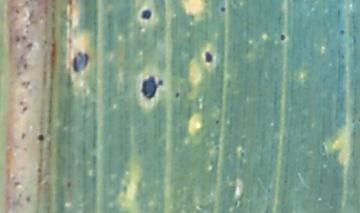tarspot: (73, 51, 89, 73), (142, 76, 157, 99), (204, 50, 214, 63), (142, 8, 152, 20), (37, 133, 45, 142), (65, 180, 72, 189), (122, 183, 128, 193), (157, 79, 164, 87), (279, 33, 286, 41), (219, 5, 226, 12), (174, 90, 180, 98), (339, 28, 345, 35), (214, 119, 220, 124)
